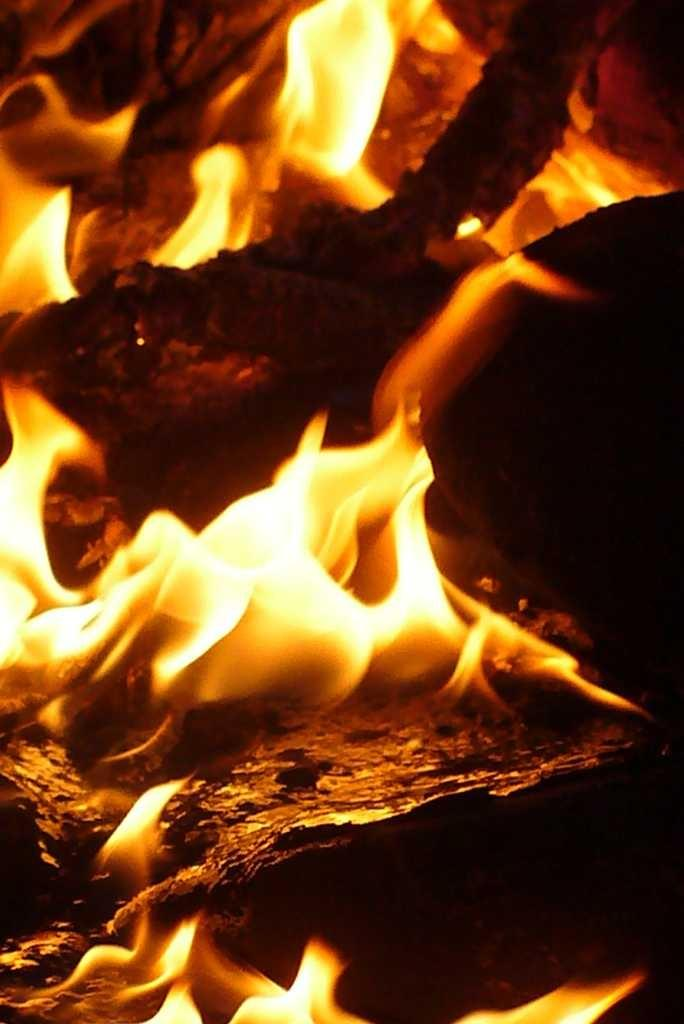fire: (7, 437, 489, 698), (254, 14, 539, 168)
